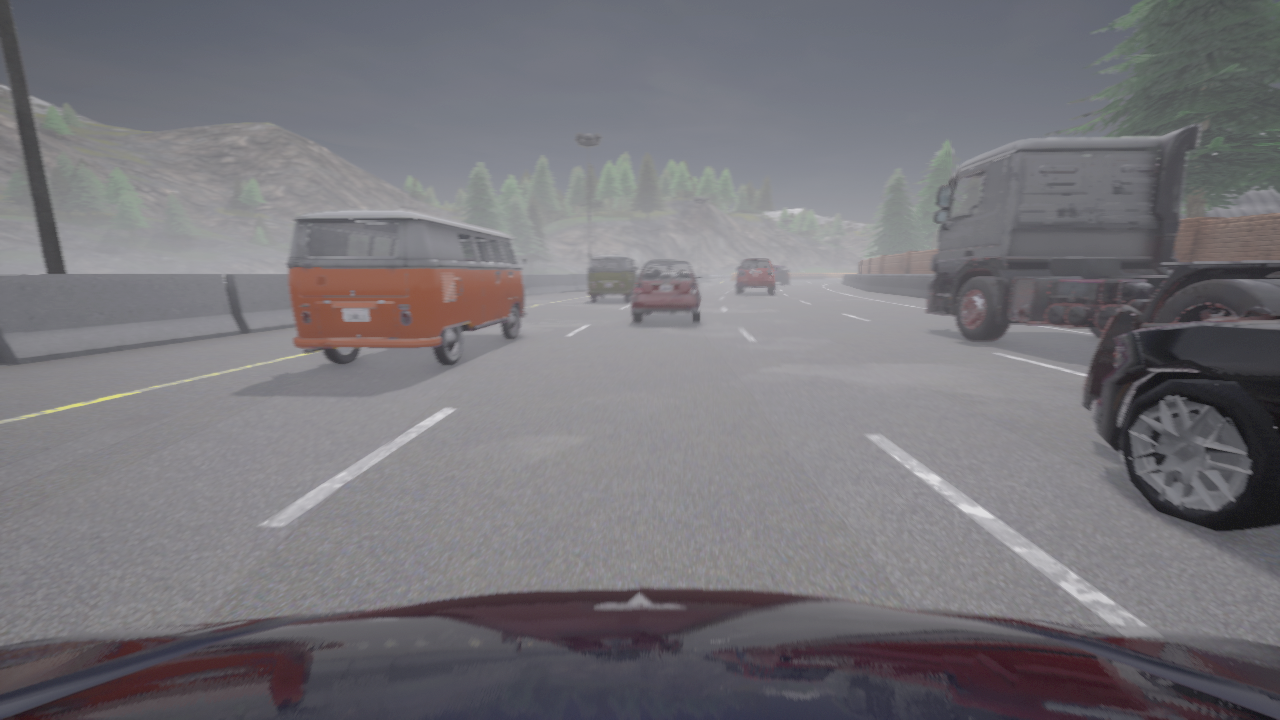cyclist: (0, 588, 1279, 719), (926, 125, 1279, 340), (1082, 304, 1279, 531), (287, 210, 526, 365), (632, 260, 701, 322), (588, 255, 637, 301), (736, 259, 775, 293), (772, 266, 788, 284)
